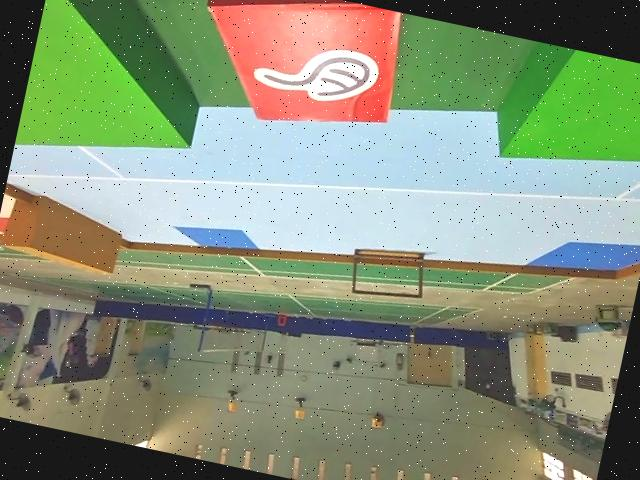R2 Fake: (186, 0, 409, 148)
